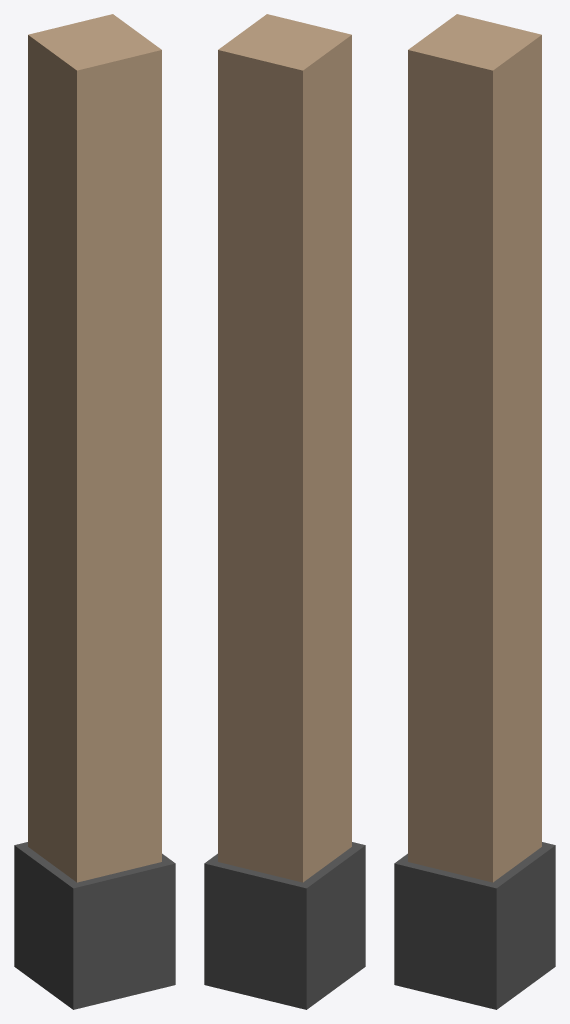
The model's file is Pillar.gltf.
3 renders of one model, left to right at view 1: azimuth 30°, elevation 25°; view 2: azimuth 150°, elevation 25°; view 3: azimuth 330°, elevation 25°, orthographic.
Visible parts, largest first — view 1: WallPart_01; view 2: WallPart_01; view 3: WallPart_01.
Part boxes in pixels (left/top/right/bottom): WallPart_01: left=14, top=14, right=175, bottom=1009; WallPart_01: left=204, top=14, right=365, bottom=1009; WallPart_01: left=394, top=14, right=555, bottom=1009.
Size of the model in its own units: 0.6023 by 5.25 by 0.6023.
1 material, 1 textured.
